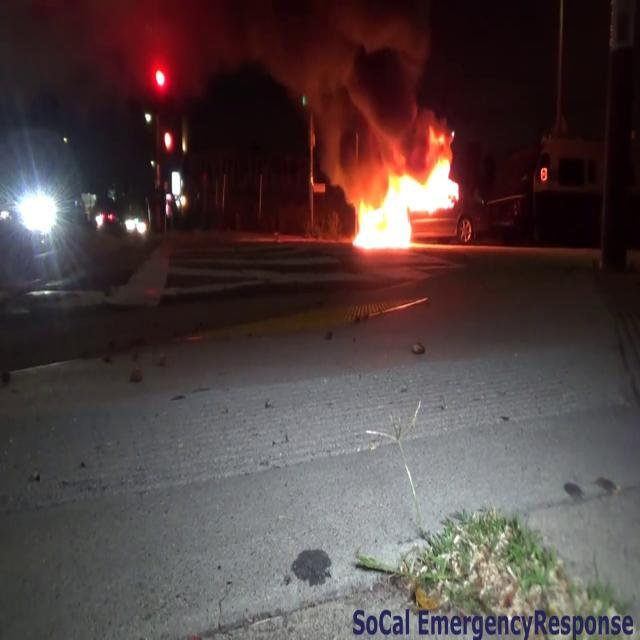Fire: (348, 137, 468, 250)
Smoke: (212, 0, 442, 150)
